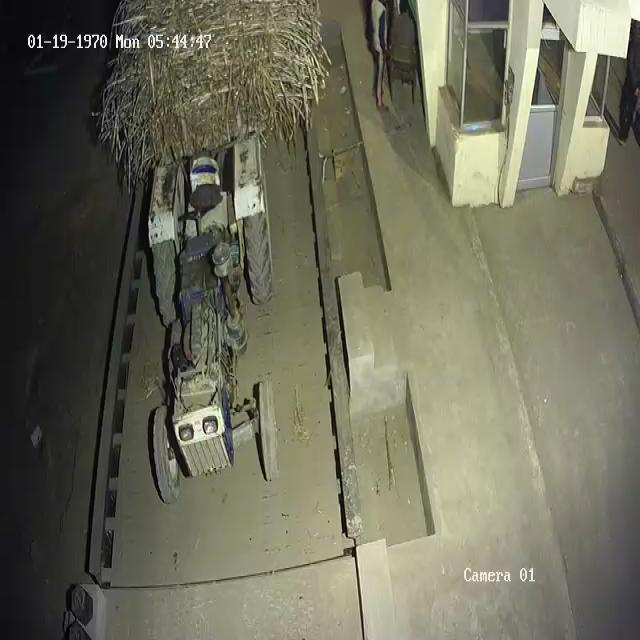Tratores - v5 YOLO V8L 2024-11-13: (147, 162, 280, 500)
